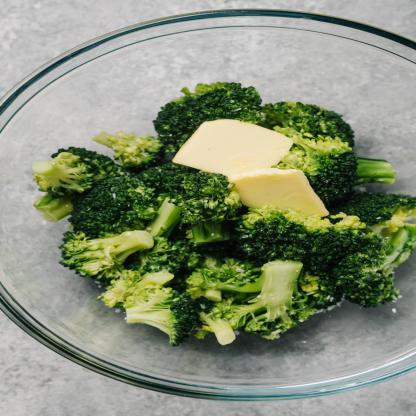broccoli: (32, 80, 416, 348)
